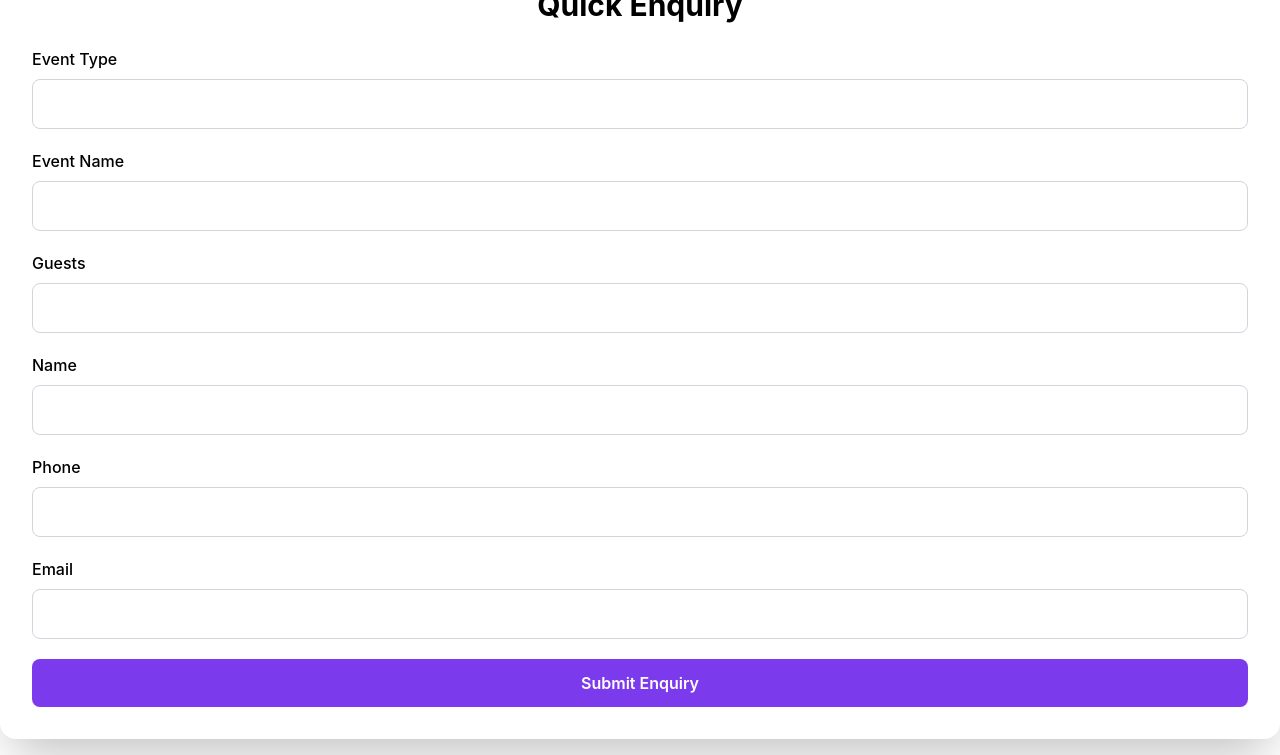
Test: shows validation errors when form is submitted empty
What coordinates should you click on to do the following:
click the button "Submit Enquiry"
I would click on:
 (640, 683)
Its box is [32,659,1248,707].
(page scrolled)
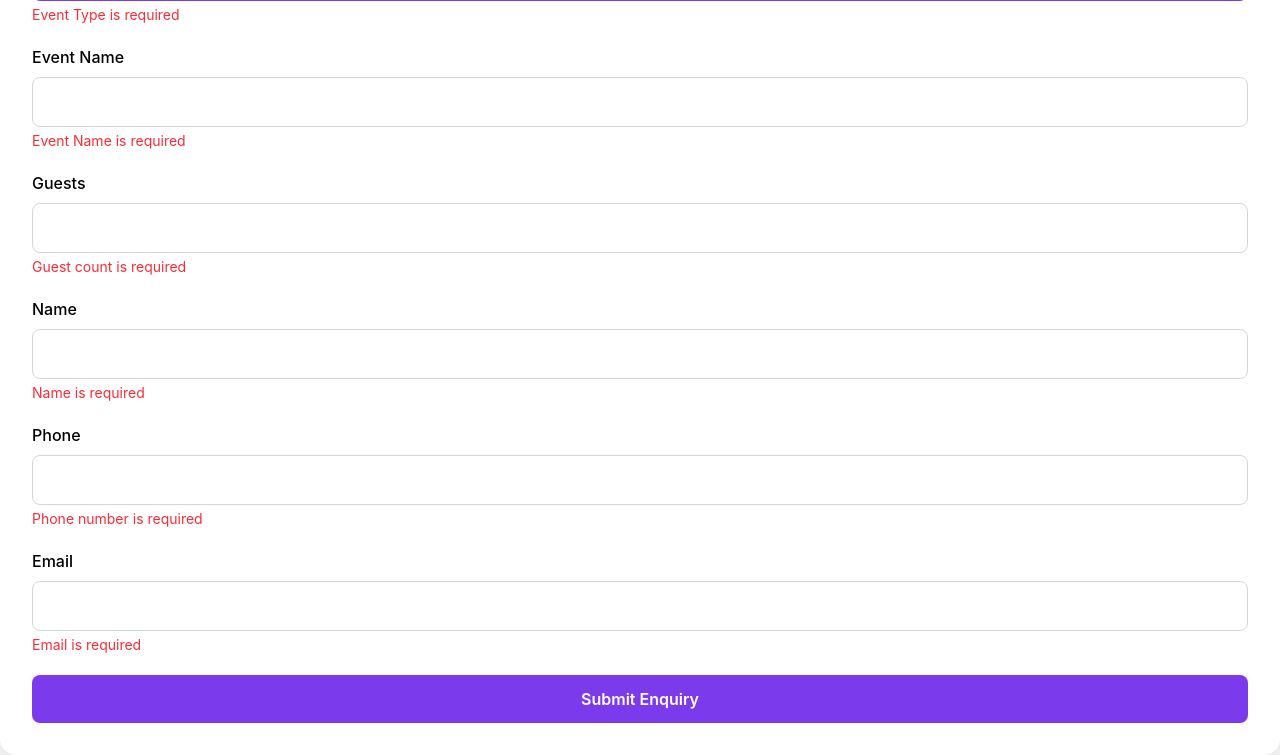
Expected: the text "Event Type is required" is shown, [32,6,180,23]
Expected: the text "Event Name is required" is shown, [32,132,186,149]
Expected: the text "Guest count is required" is shown, [32,258,186,275]
